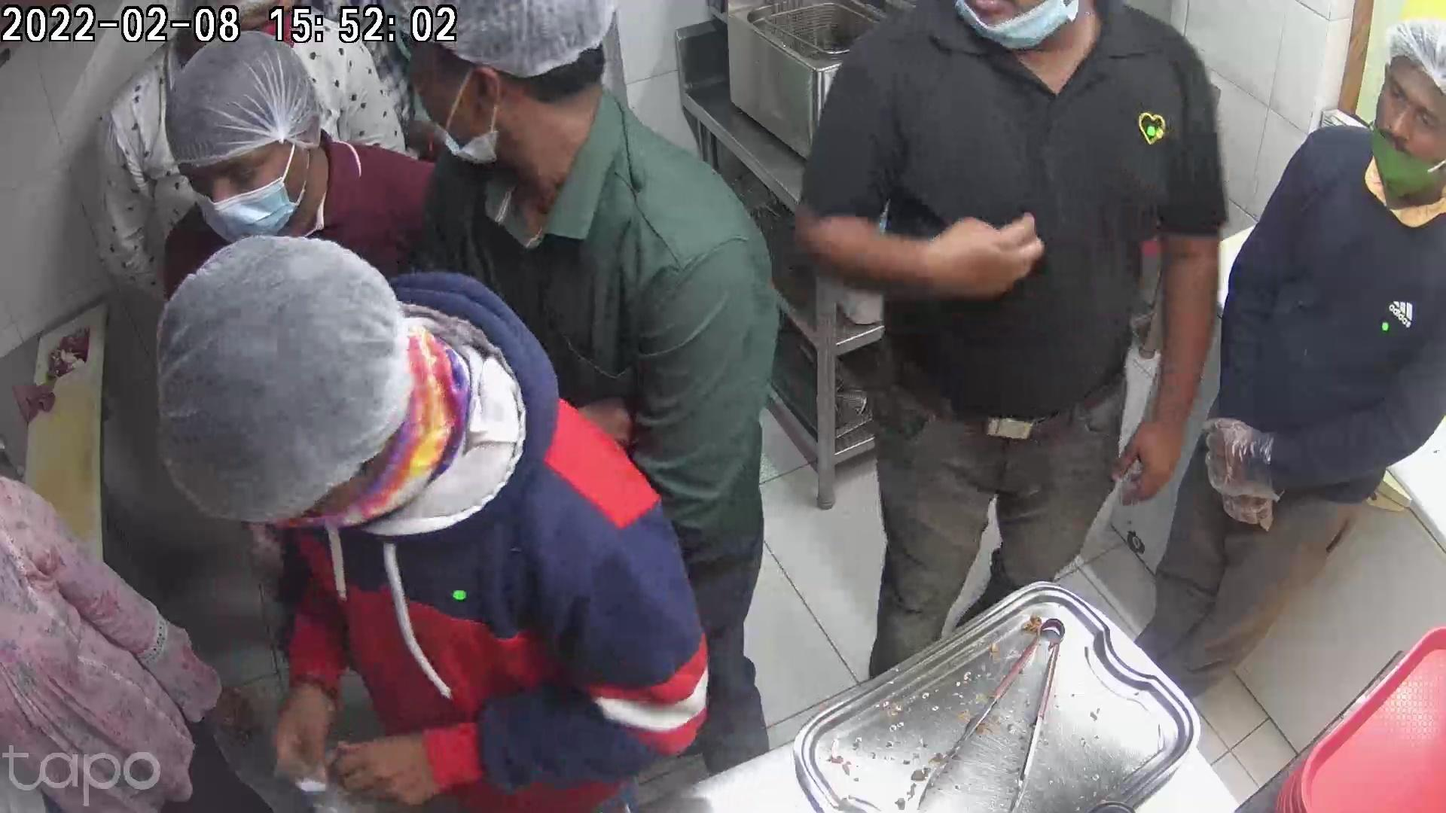no_gloves: (879, 206, 1042, 298)
